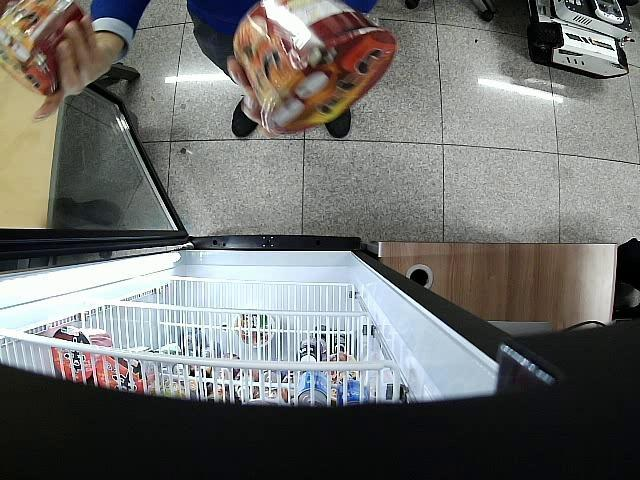05_nuguri_L: (234, 0, 398, 135), (0, 0, 91, 97)
